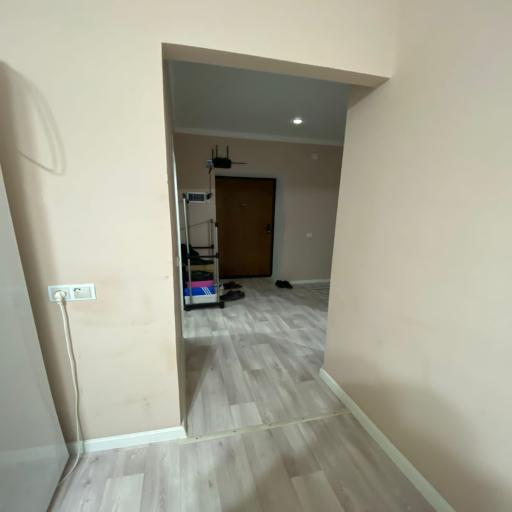car: (159, 55, 355, 437)
child: (215, 176, 276, 278)
